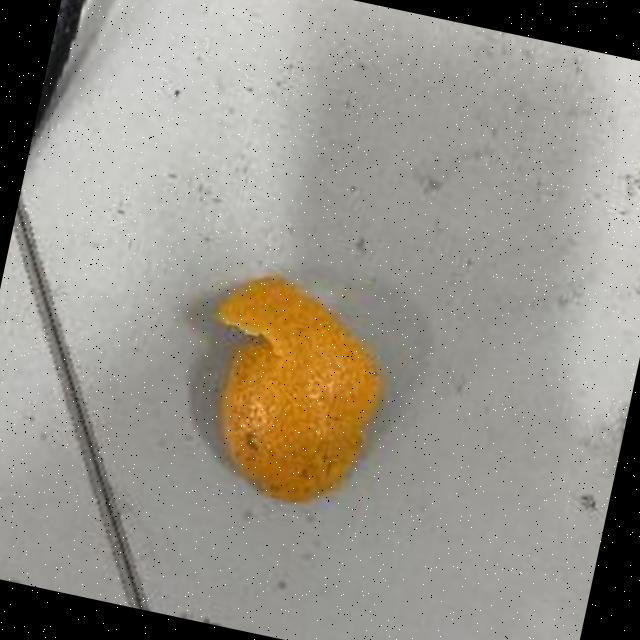orange-peel: (176, 260, 405, 518)
